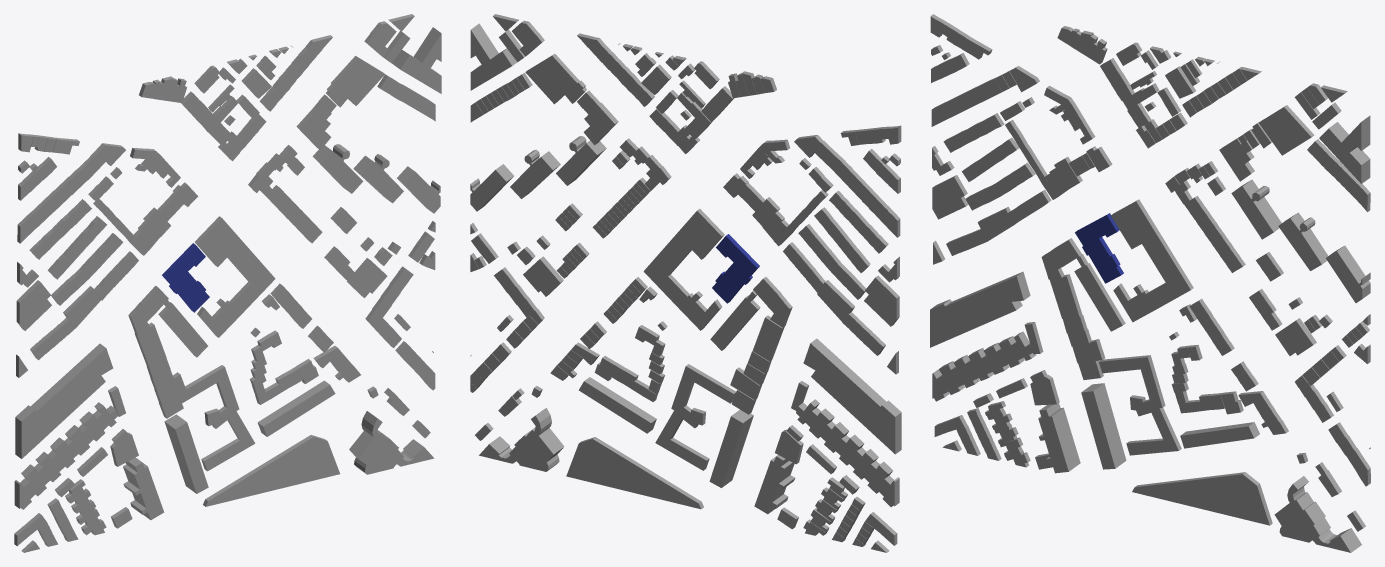
Rendered from BoltonStreet_TUDublin_Campus v2.obj.
3 renders of one model, left to right at view 1: azimuth 30°, elevation 25°; view 2: azimuth 150°, elevation 25°; view 3: azimuth 330°, elevation 25°, orthographic. The views are drawn at different scales.
Visible parts, largest first — view 1: MeshBody1 (34), MeshBody1 (14), MeshBody1 (17), MeshBody1 (36), MeshBody1 (8), MeshBody1 (5), MeshBody1 (88), MeshBody1 (53), MeshBody1 (78), MeshBody1 (86), MeshBody1 (24), MeshBody1 (71) (+32 smaller); view 2: MeshBody1 (34), MeshBody1 (14), MeshBody1 (17), MeshBody1 (36), MeshBody1 (8), MeshBody1 (5), MeshBody1 (88), MeshBody1 (53), MeshBody1 (78), MeshBody1 (86), MeshBody1 (71), MeshBody1 (24) (+33 smaller); view 3: MeshBody1 (34), MeshBody1 (36), MeshBody1 (17), MeshBody1 (14), MeshBody1 (8), MeshBody1 (5), MeshBody1 (78), MeshBody1 (86), MeshBody1 (24), MeshBody1 (88), MeshBody1 (59), MeshBody1 (62) (+34 smaller).
Part boxes in pixels (box(x1,y1,x2,y2)): MeshBody1 (34): box(128, 285, 255, 471); MeshBody1 (14): box(15, 343, 113, 458); MeshBody1 (17): box(203, 435, 339, 506); MeshBody1 (36): box(195, 216, 275, 337); MeshBody1 (8): box(14, 402, 118, 509); MeshBody1 (5): box(349, 411, 434, 474); MeshBody1 (88): box(17, 143, 125, 243); MeshBody1 (53): box(30, 251, 138, 360); MeshBody1 (78): box(93, 182, 198, 255); MeshBody1 (86): box(181, 91, 266, 161); MeshBody1 (24): box(164, 414, 208, 493); MeshBody1 (71): box(326, 56, 384, 107); MeshBody1 (34): box(655, 277, 792, 470); MeshBody1 (14): box(803, 338, 901, 454); MeshBody1 (17): box(566, 437, 703, 509); MeshBody1 (36): box(643, 209, 724, 330); MeshBody1 (8): box(796, 399, 899, 506); MeshBody1 (5): box(479, 408, 564, 471); MeshBody1 (88): box(794, 135, 900, 237); MeshBody1 (53): box(783, 242, 885, 355); MeshBody1 (78): box(723, 173, 828, 246); MeshBody1 (86): box(649, 86, 734, 153); MeshBody1 (71): box(525, 54, 586, 104); MeshBody1 (24): box(709, 409, 753, 487); MeshBody1 (34): box(1041, 238, 1181, 455); MeshBody1 (36): box(1111, 199, 1193, 322); MeshBody1 (17): box(1132, 472, 1272, 525); MeshBody1 (14): box(930, 271, 1030, 347); MeshBody1 (8): box(932, 331, 1036, 401); MeshBody1 (5): box(1274, 476, 1361, 552); MeshBody1 (78): box(1005, 120, 1112, 199); MeshBody1 (86): box(1100, 58, 1187, 148); MeshBody1 (24): box(1081, 383, 1126, 469); MeshBody1 (88): box(931, 66, 1039, 126); MeshBody1 (59): box(1319, 115, 1370, 183); MeshBody1 (62): box(1165, 168, 1245, 272).
Size of the model in its own units: 503 by 504 by 27.92.
